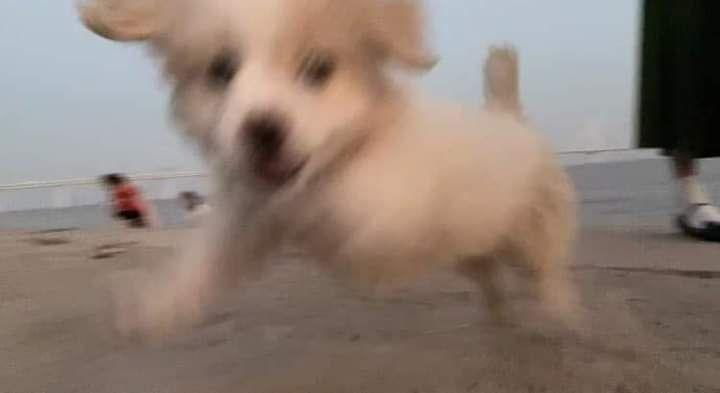puppy-dog: (67, 1, 598, 351)
